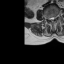CCS_normal: (51, 15, 53, 24)
LFS_normal: (54, 14, 56, 20)
LLS_normal: (53, 15, 54, 21)
RFS_stenosis: (48, 15, 49, 21)
RLS_normal: (49, 15, 51, 21)
